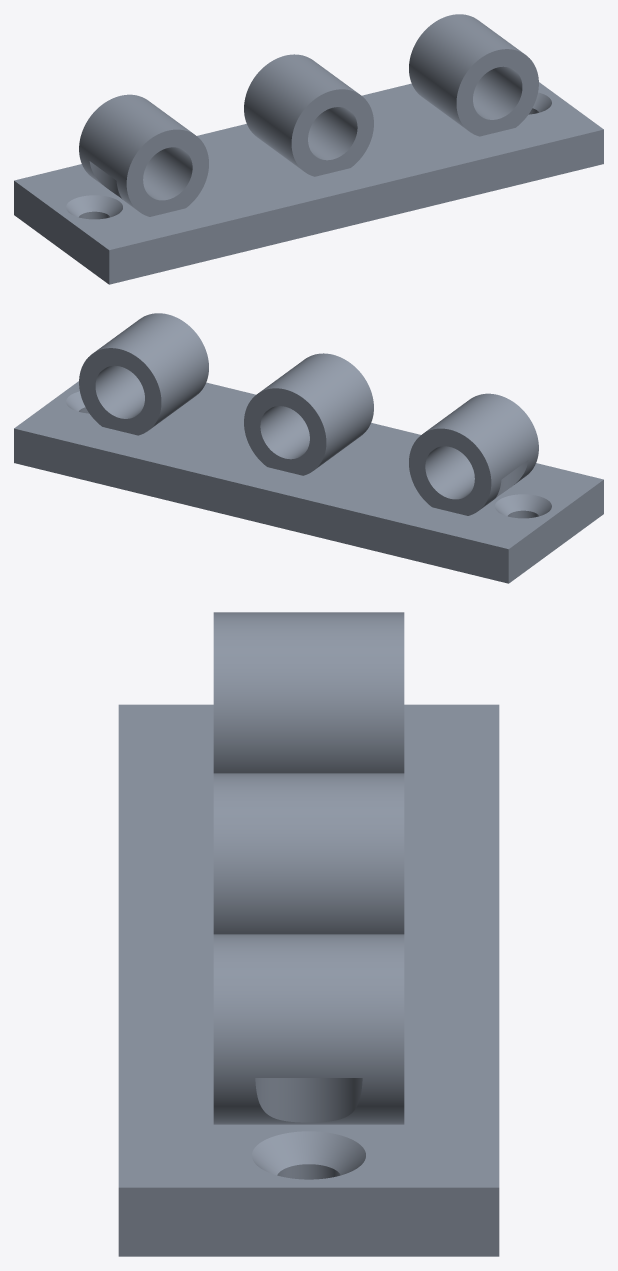
File: step-2.glb
The picture shows the model from 3 angles, top to bottom: view 1: azimuth 30°, elevation 25°; view 2: azimuth 150°, elevation 25°; view 3: azimuth 270°, elevation 25°; orthographic projection. The views are drawn at different scales.
Visible parts, largest first — view 1: face_7b2cae77dd94d9b9c5d8, face_2e47548f63e72c3dca35, face_6356f095ab4b7d5536f7, face_7d723c6a15cb916351fb, face_41a3145f0ac0c08dfe58, face_41f1b08d80a013f17cc8, face_52bd2e15cfcbeb44442a, face_f5f2043f39814757c4e0, face_8664a2682e5a438b4f42, face_11d636c49340b4f1a941, face_9bf394f81bb9446e718b, face_5403799aa19867574626 (+2 smaller); view 2: face_7b2cae77dd94d9b9c5d8, face_d9c998e2cacfaf4ae417, face_6356f095ab4b7d5536f7, face_7d723c6a15cb916351fb, face_41a3145f0ac0c08dfe58, face_f76e8efecd189ee7d39d, face_732939311618bb5a4a1c, face_523cb17f99a2b64daa27, face_8664a2682e5a438b4f42, face_11d636c49340b4f1a941, face_9bf394f81bb9446e718b, face_5403799aa19867574626 (+2 smaller); view 3: face_7b2cae77dd94d9b9c5d8, face_7d723c6a15cb916351fb, face_41a3145f0ac0c08dfe58, face_6356f095ab4b7d5536f7, face_2c14b14e686f1e82f2b0, face_94ce081cc7d64b268f5c, face_18272f64a55ec9fdfebc.
Part boxes in pixels (bbox=[...]): face_7b2cae77dd94d9b9c5d8: bbox=[14, 82, 603, 250]; face_2e47548f63e72c3dca35: bbox=[109, 129, 603, 284]; face_6356f095ab4b7d5536f7: bbox=[244, 54, 357, 169]; face_7d723c6a15cb916351fb: bbox=[409, 14, 523, 130]; face_41a3145f0ac0c08dfe58: bbox=[79, 94, 192, 210]; face_41f1b08d80a013f17cc8: bbox=[126, 129, 208, 216]; face_52bd2e15cfcbeb44442a: bbox=[291, 89, 373, 176]; face_f5f2043f39814757c4e0: bbox=[456, 49, 538, 136]; face_8664a2682e5a438b4f42: bbox=[14, 181, 109, 284]; face_11d636c49340b4f1a941: bbox=[143, 147, 192, 200]; face_9bf394f81bb9446e718b: bbox=[308, 107, 357, 160]; face_5403799aa19867574626: bbox=[473, 66, 522, 119]; face_7b2cae77dd94d9b9c5d8: bbox=[14, 381, 603, 549]; face_d9c998e2cacfaf4ae417: bbox=[14, 428, 508, 583]; face_6356f095ab4b7d5536f7: bbox=[260, 353, 373, 468]; face_7d723c6a15cb916351fb: bbox=[94, 313, 208, 429]; face_41a3145f0ac0c08dfe58: bbox=[425, 393, 538, 509]; face_f76e8efecd189ee7d39d: bbox=[409, 428, 491, 515]; face_732939311618bb5a4a1c: bbox=[244, 388, 326, 475]; face_523cb17f99a2b64daa27: bbox=[79, 348, 161, 435]; face_8664a2682e5a438b4f42: bbox=[508, 480, 603, 583]; face_11d636c49340b4f1a941: bbox=[425, 446, 474, 499]; face_9bf394f81bb9446e718b: bbox=[260, 406, 309, 459]; face_5403799aa19867574626: bbox=[95, 365, 144, 418]; face_7b2cae77dd94d9b9c5d8: bbox=[118, 704, 499, 1187]; face_7d723c6a15cb916351fb: bbox=[213, 934, 404, 1124]; face_41a3145f0ac0c08dfe58: bbox=[213, 612, 404, 773]; face_6356f095ab4b7d5536f7: bbox=[213, 773, 404, 934]; face_2c14b14e686f1e82f2b0: bbox=[118, 1187, 499, 1256]; face_94ce081cc7d64b268f5c: bbox=[255, 1078, 362, 1122]; face_18272f64a55ec9fdfebc: bbox=[252, 1131, 365, 1175].
Bounding box in the file's own units: 0.06 × 0.0135 × 0.02.
